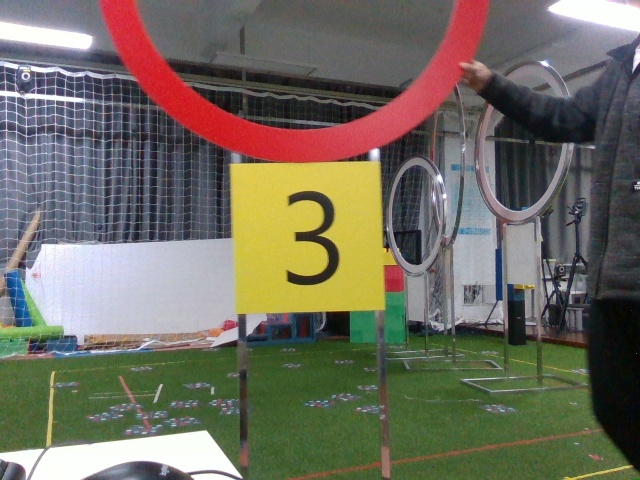target: (233, 162, 378, 308)
